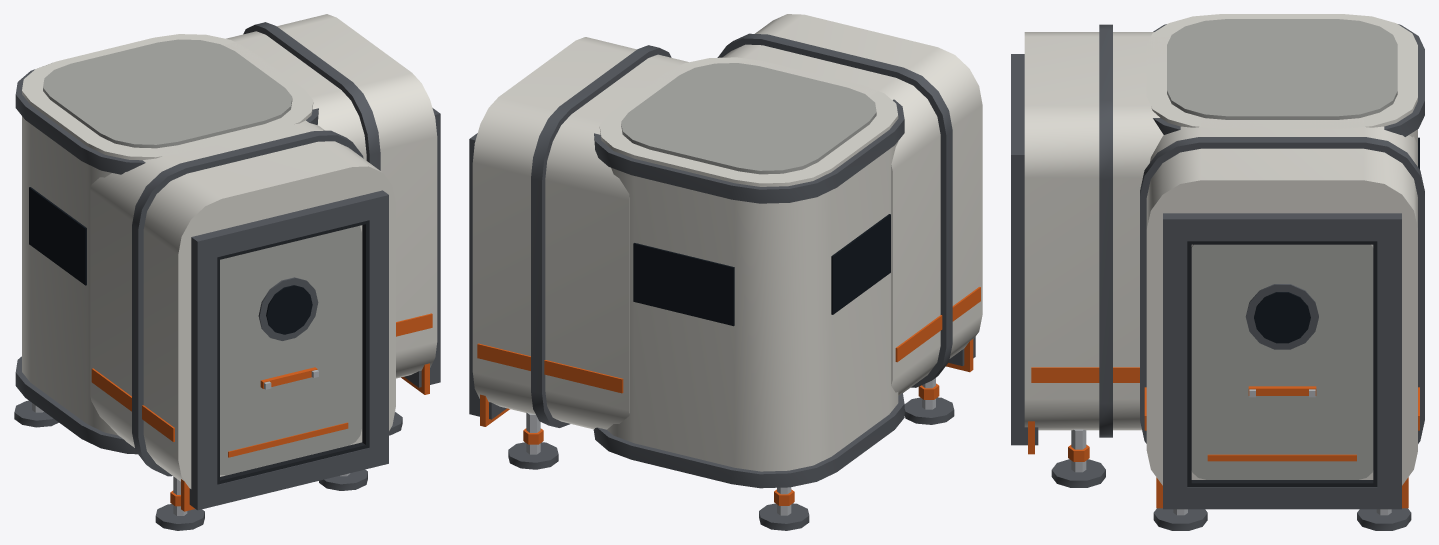
The model's file is corridor_corner.glb.
The picture shows the model from 3 angles, left to right: view 1: azimuth 30°, elevation 25°; view 2: azimuth 150°, elevation 25°; view 3: azimuth 270°, elevation 25°; orthographic projection. The views are drawn at different scales.
Parts seen in each view (by area): view 1: body, hatch_n; view 2: body; view 3: body, hatch_e.
Part boxes in pixels (x1,y1,x2,y2): body: [14, 14, 440, 530]; hatch_n: [220, 226, 361, 475]; body: [469, 14, 982, 530]; body: [1011, 14, 1424, 530]; hatch_e: [1191, 244, 1373, 479].
Bounding box in the file's own units: 3.05 × 3 × 3.05.
